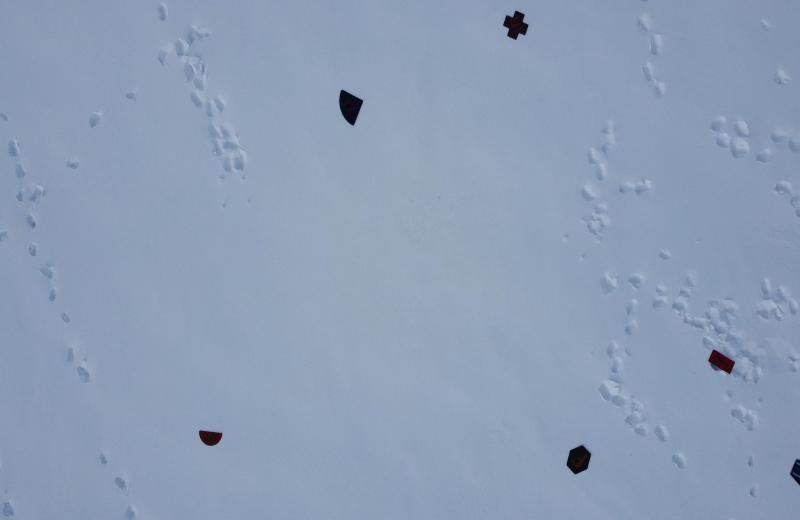Cross: (500, 8, 528, 44)
Hexagon: (565, 441, 596, 477)
Quarter Circle: (334, 83, 366, 132)
Rectangle: (1, 0, 800, 520), (709, 346, 737, 378)
Semi Circle: (198, 424, 225, 454)
